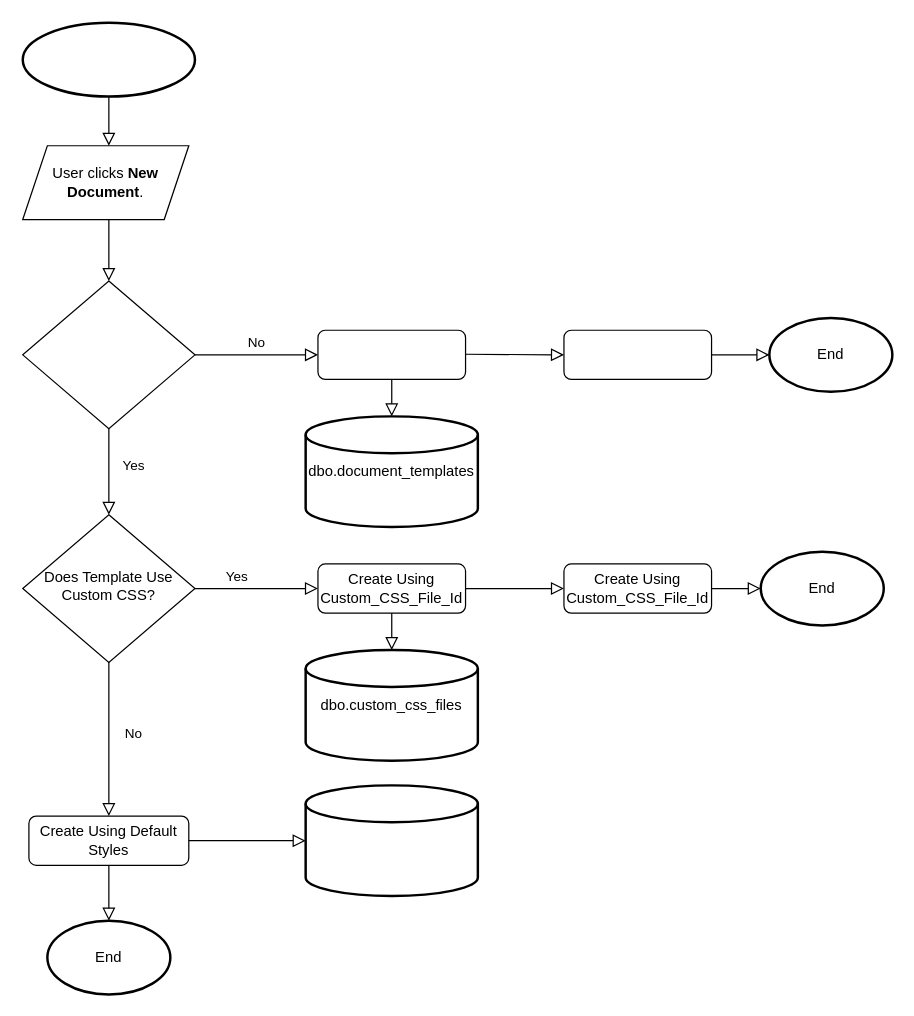
Some shapes in this 914 by 1016 pixel diagram are drawn without their labels. Each missing label, with the centre of its shape:
"Create Using Default Template" goes at (x=637, y=354).
"dbo.default_styles" goes at (x=391, y=840).
"Does Document Use Document Template?" goes at (x=108, y=354).
"Retrieve Default Template (Id = 1)" goes at (x=391, y=354).
"Start" goes at (x=108, y=59).
